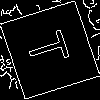T: (24, 25, 80, 69)
